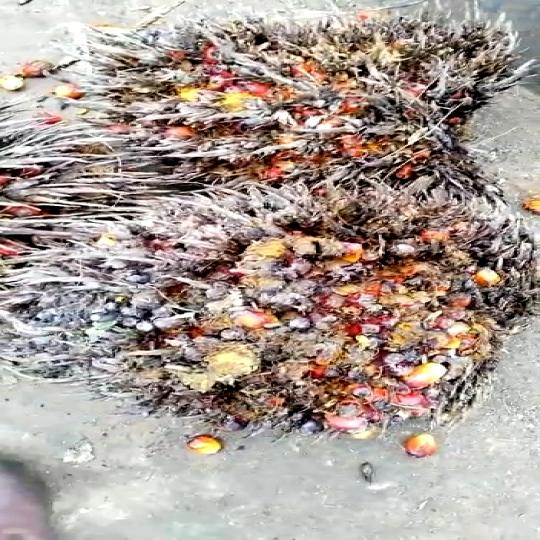terlalu masak: (38, 173, 533, 440), (80, 7, 524, 201)
